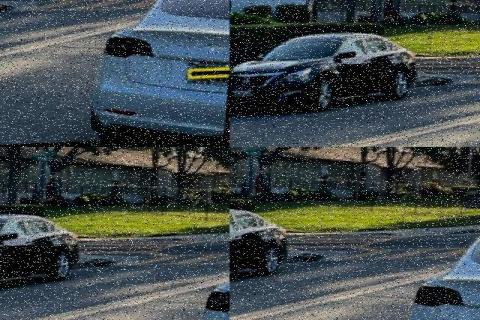LicensePlate: (0, 0, 13, 8), (0, 147, 15, 153)
